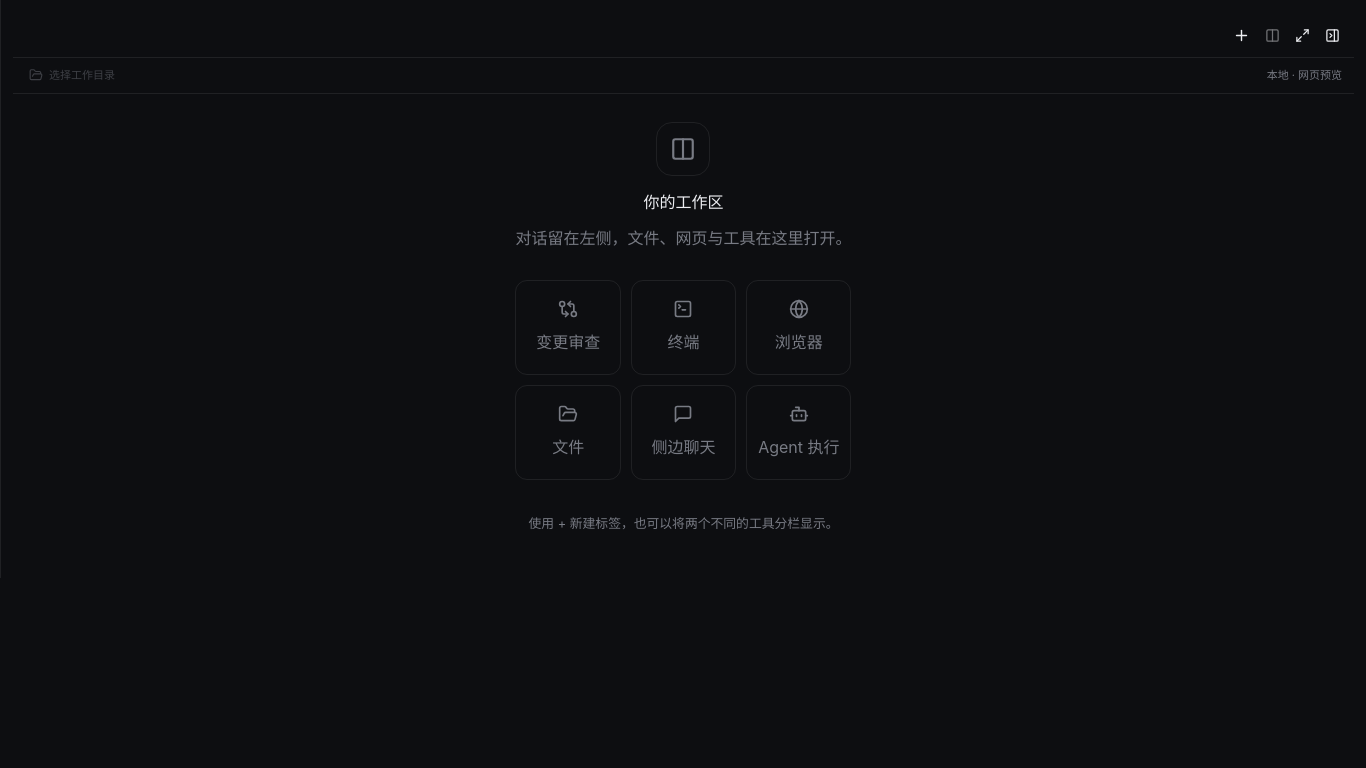
Scenario: Agent right workspace › lists real agent runs and opens their deliverable
The image size is (1366, 768).
Click the button named "新建工作区标签".
click(1241, 36)  # box [1227,22,1255,50]
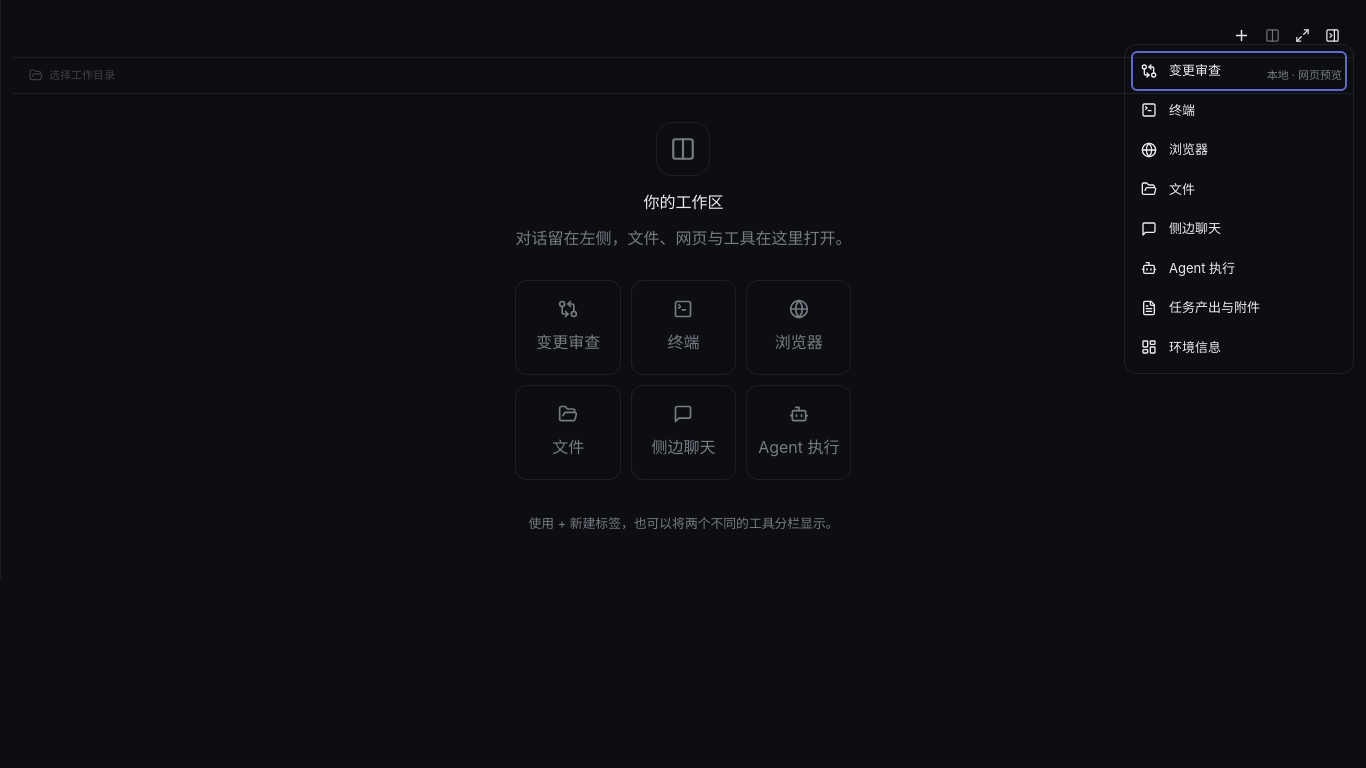
Click the menu item "Agent 执行".
click(1239, 268)  # box [1131,248,1347,288]
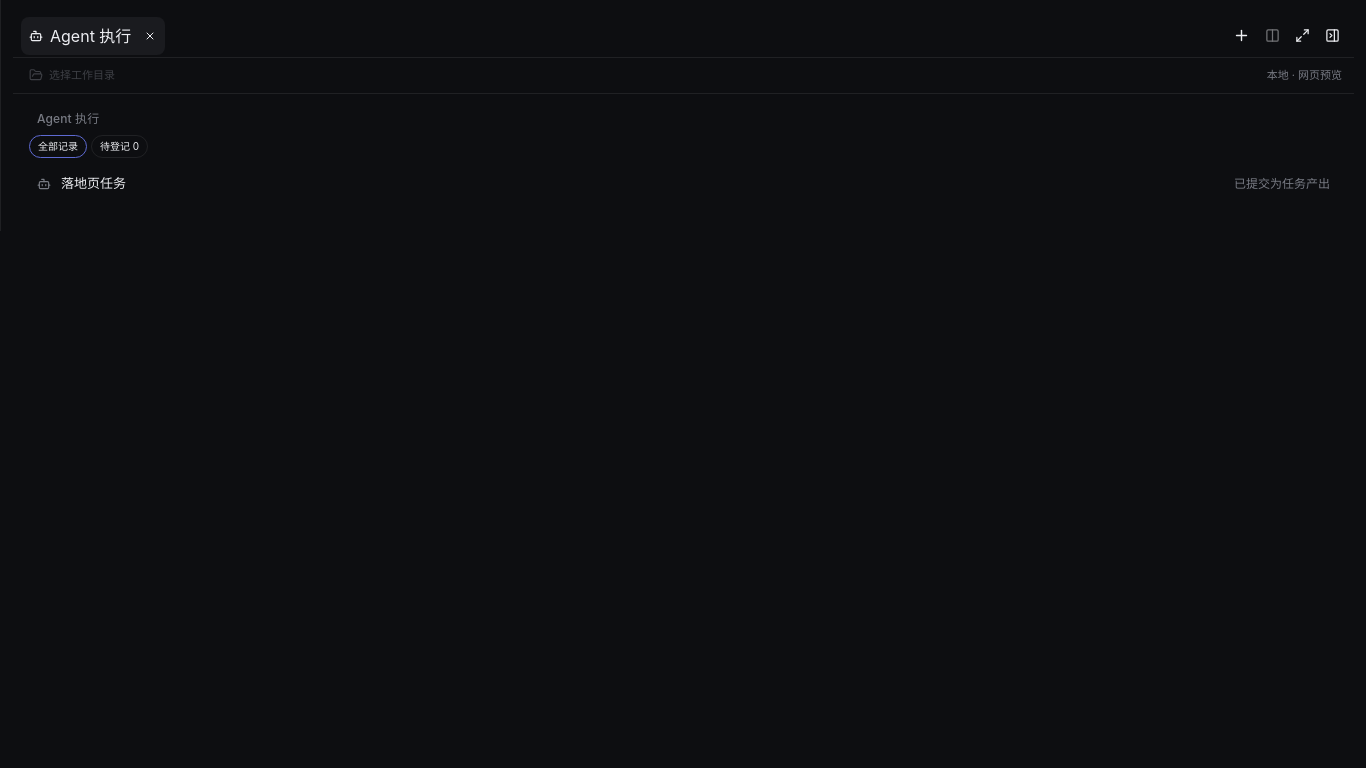
Click the button "落地页任务 已提交为任务产出".
click(94, 183)  # box [29,166,1338,200]
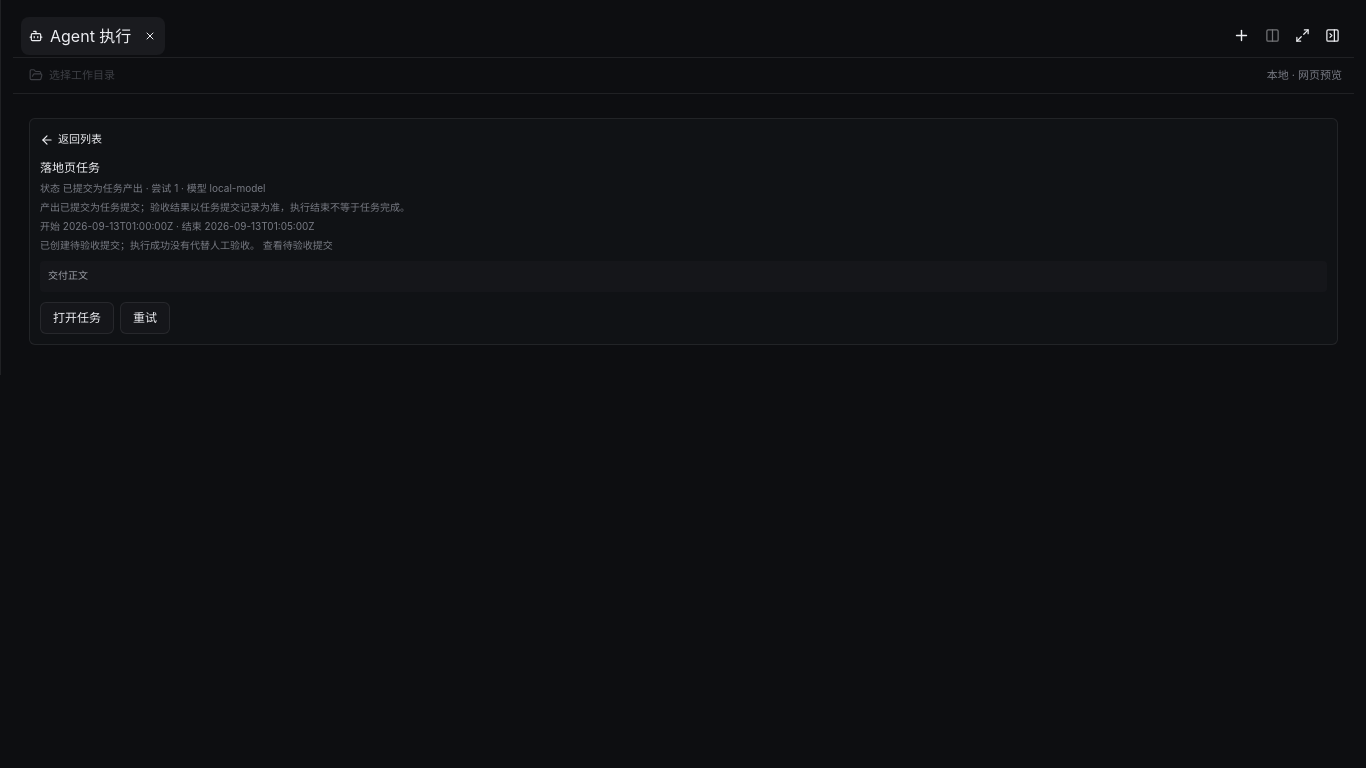
Check: the text "交付正文" is shown, box [40,260,1327,292]
Click the button "返回列表".
click(71, 140)  # box [40,131,102,148]
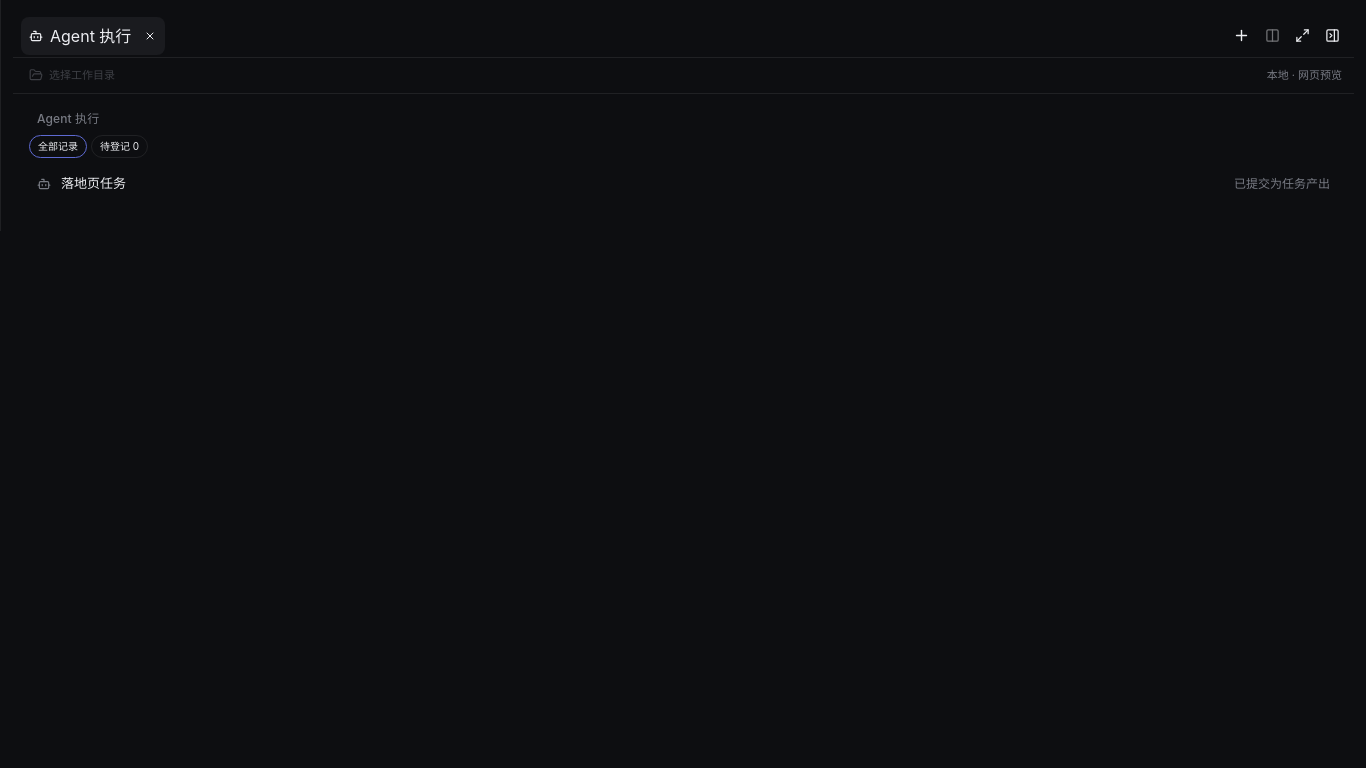
Check: the text "交付正文" is gone
